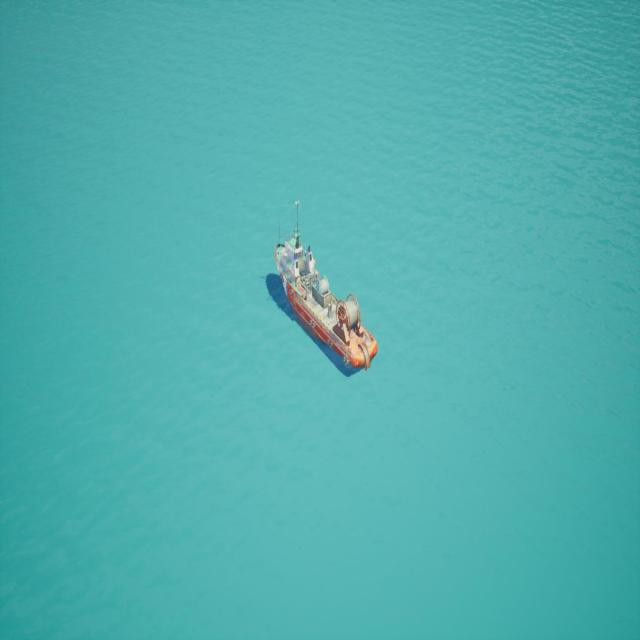tug boat: (269, 231, 365, 378)
